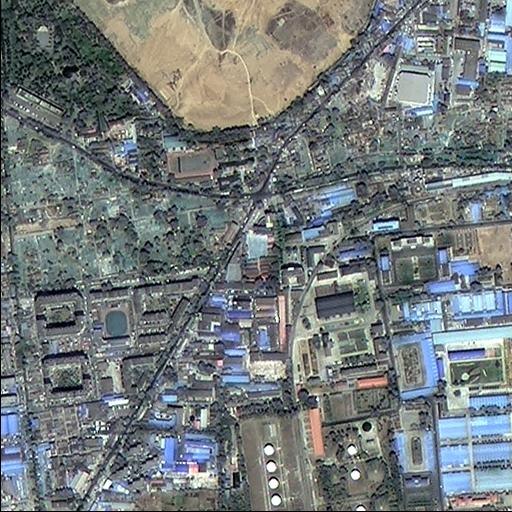school: (165, 136, 254, 197), (89, 295, 134, 355)
